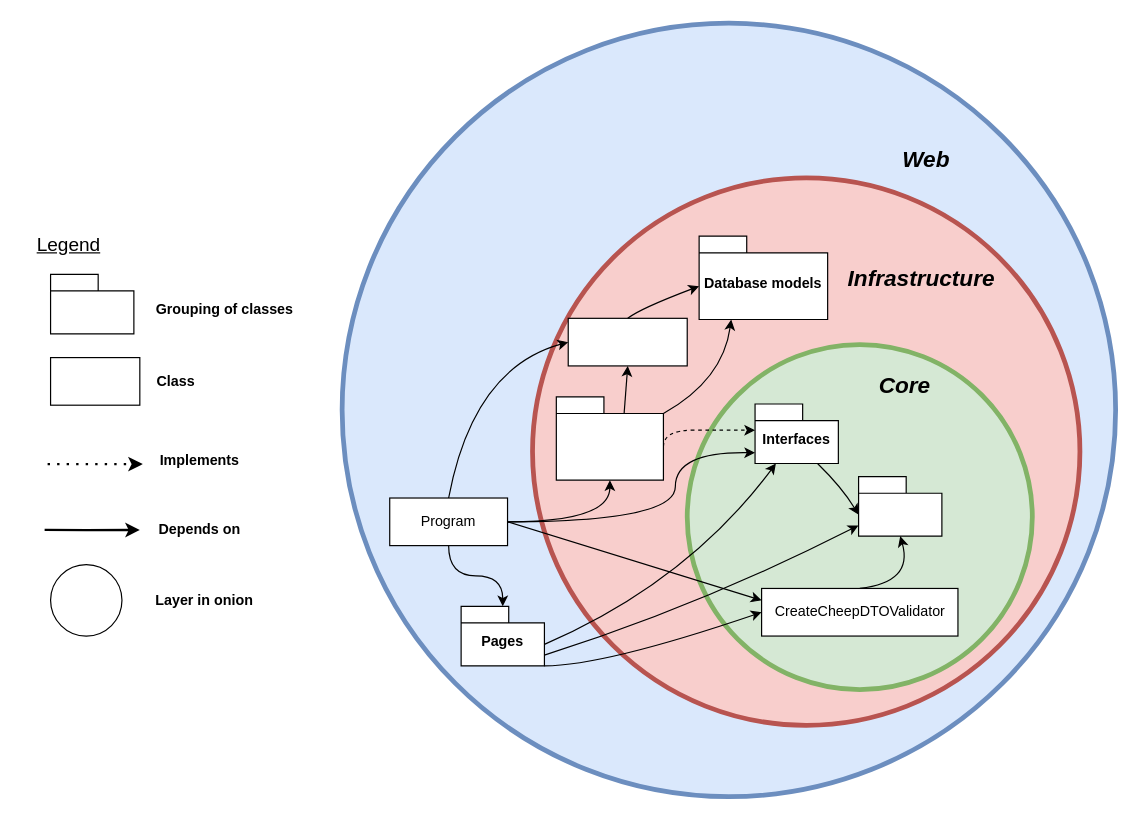
The diagram is 1138 pixels wide and 819 high, and some of its shapes have lost their labels. Each missing label, with the centre of its shape:
"ChirpDBContext" goes at point (627, 341).
"DTOs" goes at point (899, 505).
"Repositories" goes at point (609, 438).
